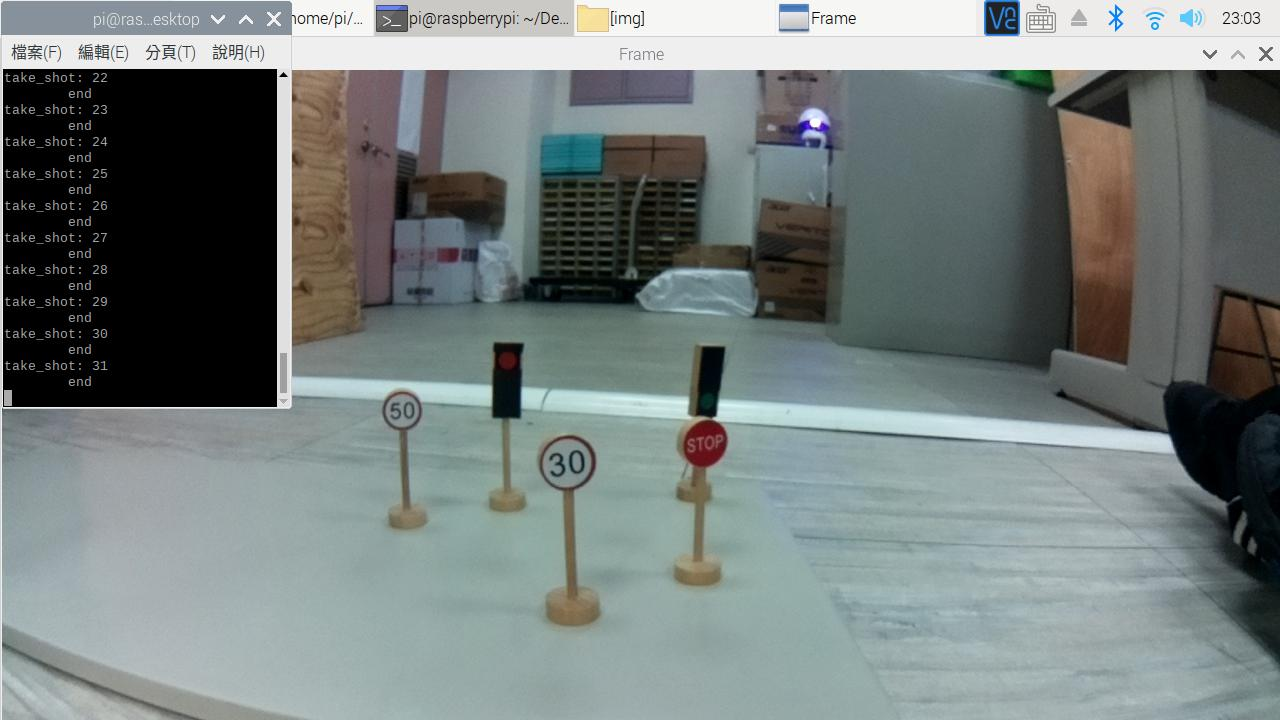Green: (693, 340, 720, 416)
Red: (490, 343, 520, 417)
Speed30: (535, 434, 596, 488)
Speed50: (379, 391, 425, 431)
Stop: (676, 420, 731, 466)
